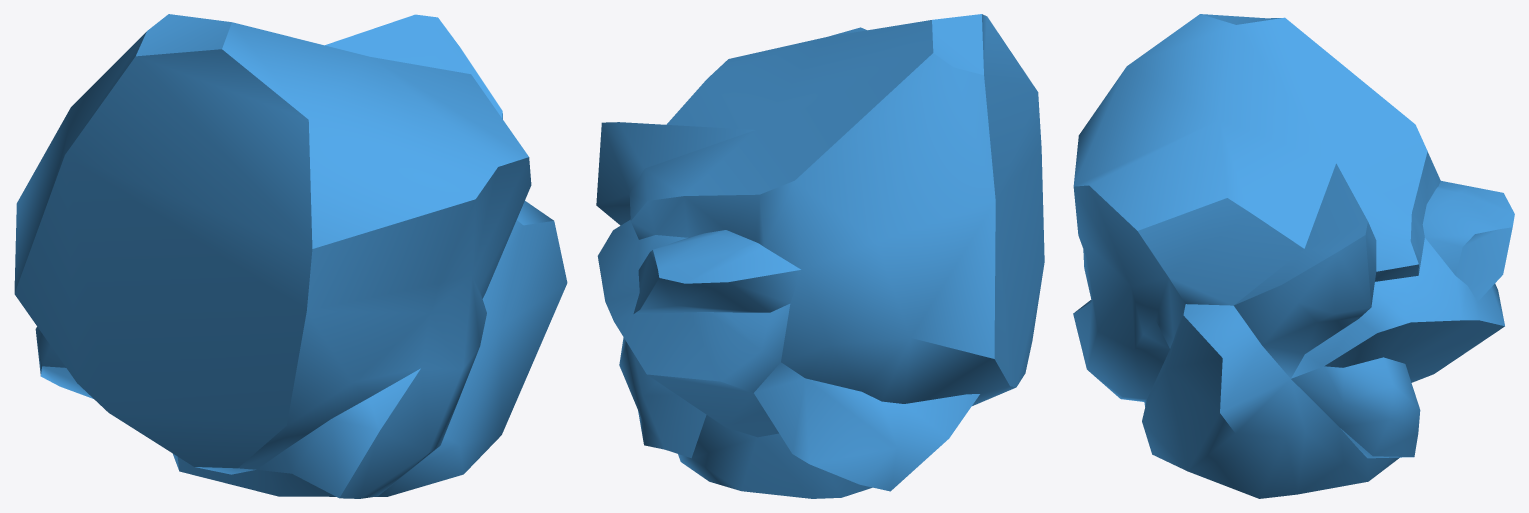
File: obj_resource_mineralblue.fbx
The picture shows the model from 3 angles, left to right: view 1: azimuth 30°, elevation 25°; view 2: azimuth 150°, elevation 25°; view 3: azimuth 270°, elevation 25°; orthographic projection. The views are drawn at different scales.
Visible parts, largest first — view 1: obj_resource_mineralblue_lod0; view 2: obj_resource_mineralblue_lod0; view 3: obj_resource_mineralblue_lod0.
Part boxes in pixels (x1,y1,x2,y2): obj_resource_mineralblue_lod0: (14,14,567,498); obj_resource_mineralblue_lod0: (596,14,1044,498); obj_resource_mineralblue_lod0: (1073,14,1514,498).
Bounding box in the file's own units: 1.03 × 1.01 × 1.06.
